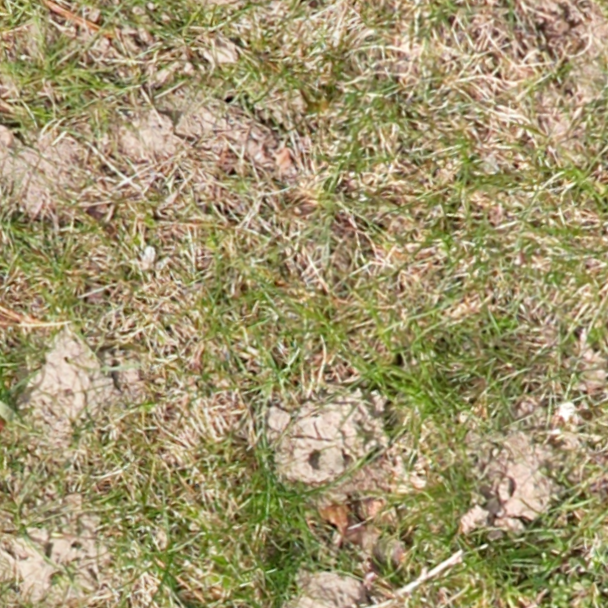nest: (259, 401, 390, 490), (19, 343, 109, 444), (466, 437, 555, 537)
